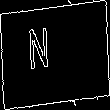N_S: (44, 28, 66, 82)
